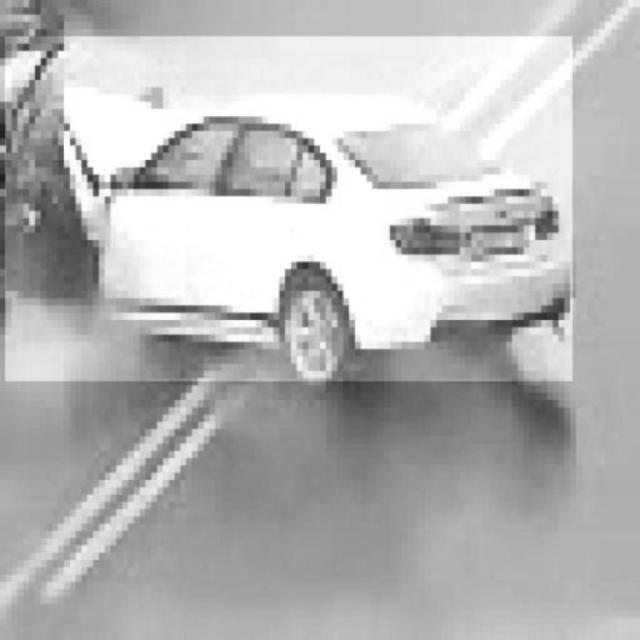accident: (5, 37, 573, 382)
